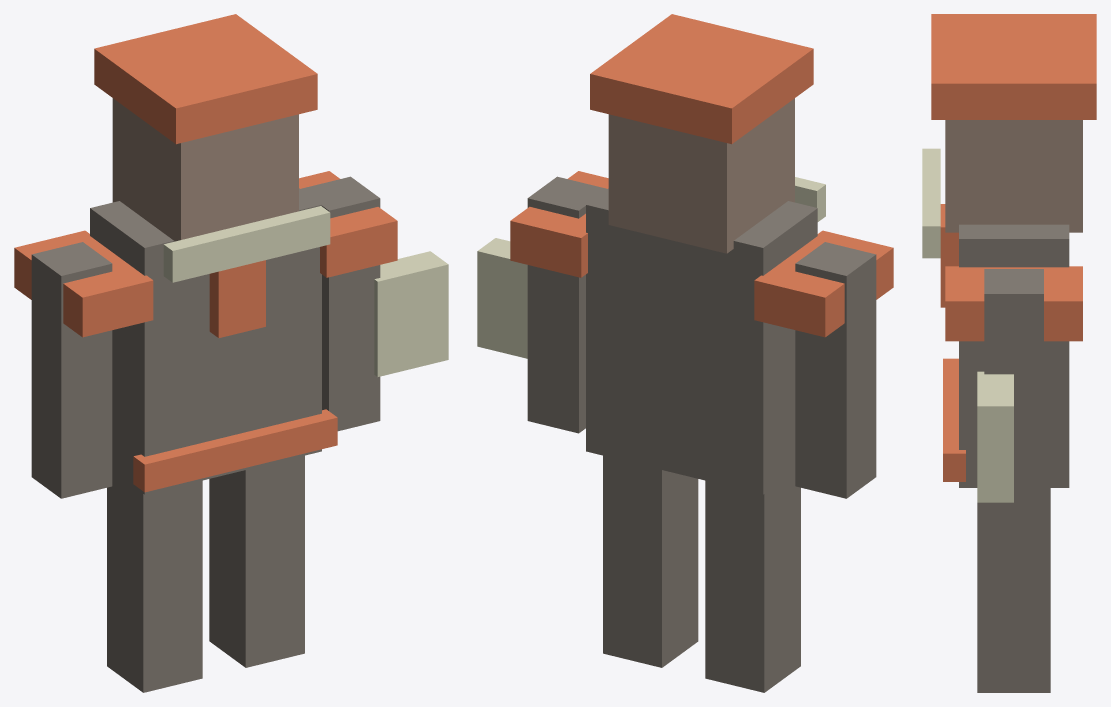
File: 07_asha_dubwater_smith_from_furnace.glb
3 views of the same model, side by side, from view 1: azimuth 30°, elevation 25°; view 2: azimuth 150°, elevation 25°; view 3: azimuth 270°, elevation 25° (orthographic).
Parts seen in each view (by area): view 1: Asha Dubwater, Smith from Furnace; view 2: Asha Dubwater, Smith from Furnace; view 3: Asha Dubwater, Smith from Furnace.
Boxes of the visible parts, x1,y1,x2,y2 form: Asha Dubwater, Smith from Furnace: [14, 14, 448, 692]; Asha Dubwater, Smith from Furnace: [477, 14, 893, 692]; Asha Dubwater, Smith from Furnace: [922, 14, 1096, 692].
Bounding box in the file's own units: 1.06 × 1.58 × 0.414.
